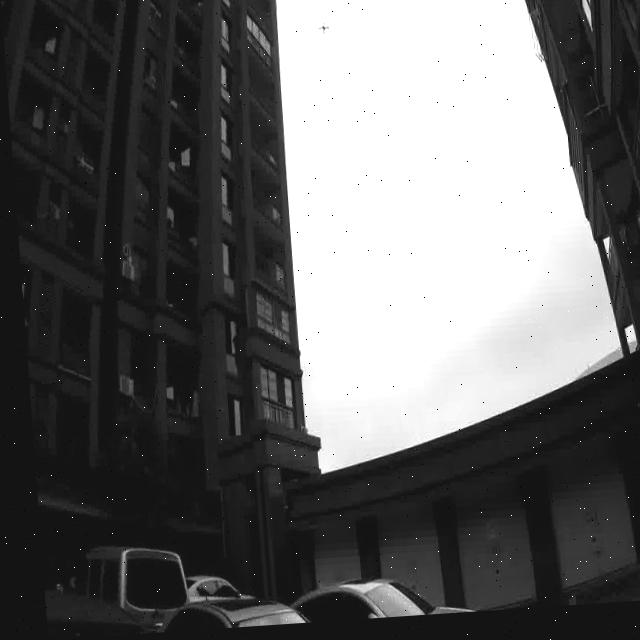drone: (303, 6, 336, 45)
